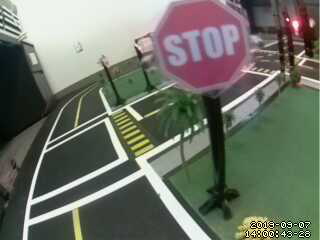Stop_Sign: (149, 2, 262, 97)
